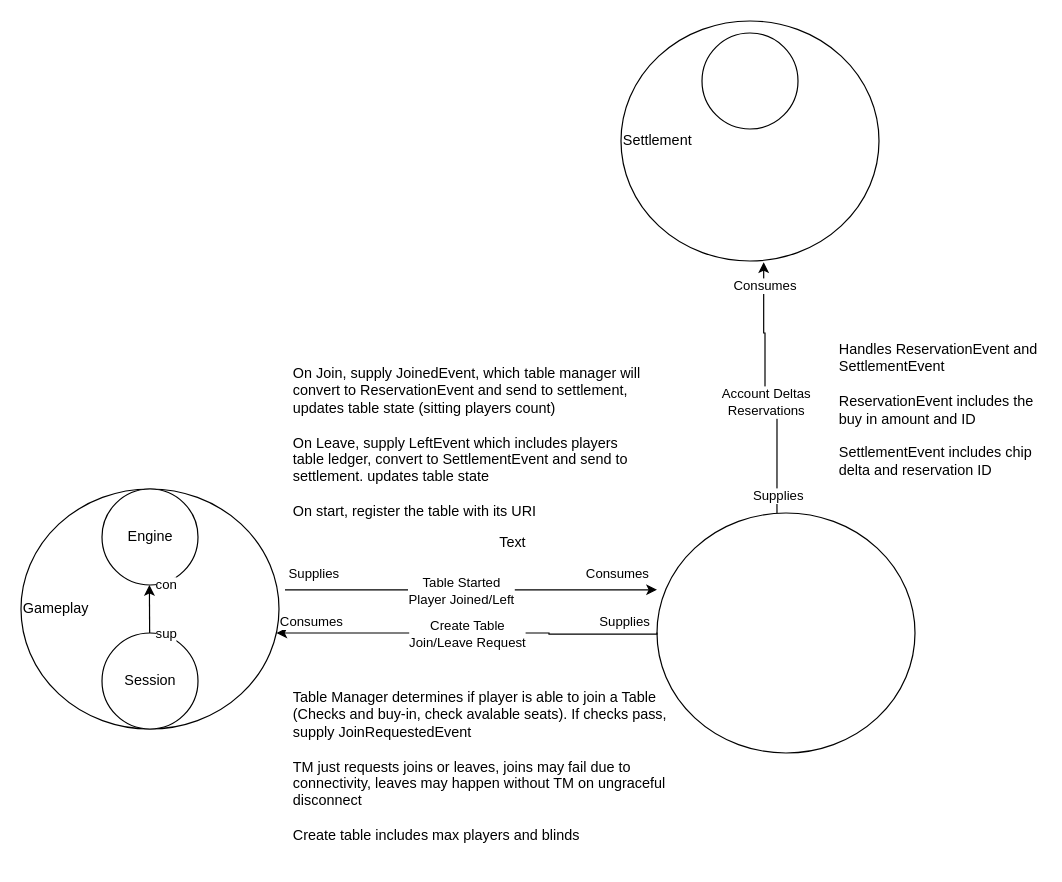
This 1062x882 diagram has some shape labels left out. The box of each missing label's shape, as (x1, y1, x2, y2) in pixels:
ledger: (701, 32, 798, 129)
Table Managment: (656, 512, 915, 753)
